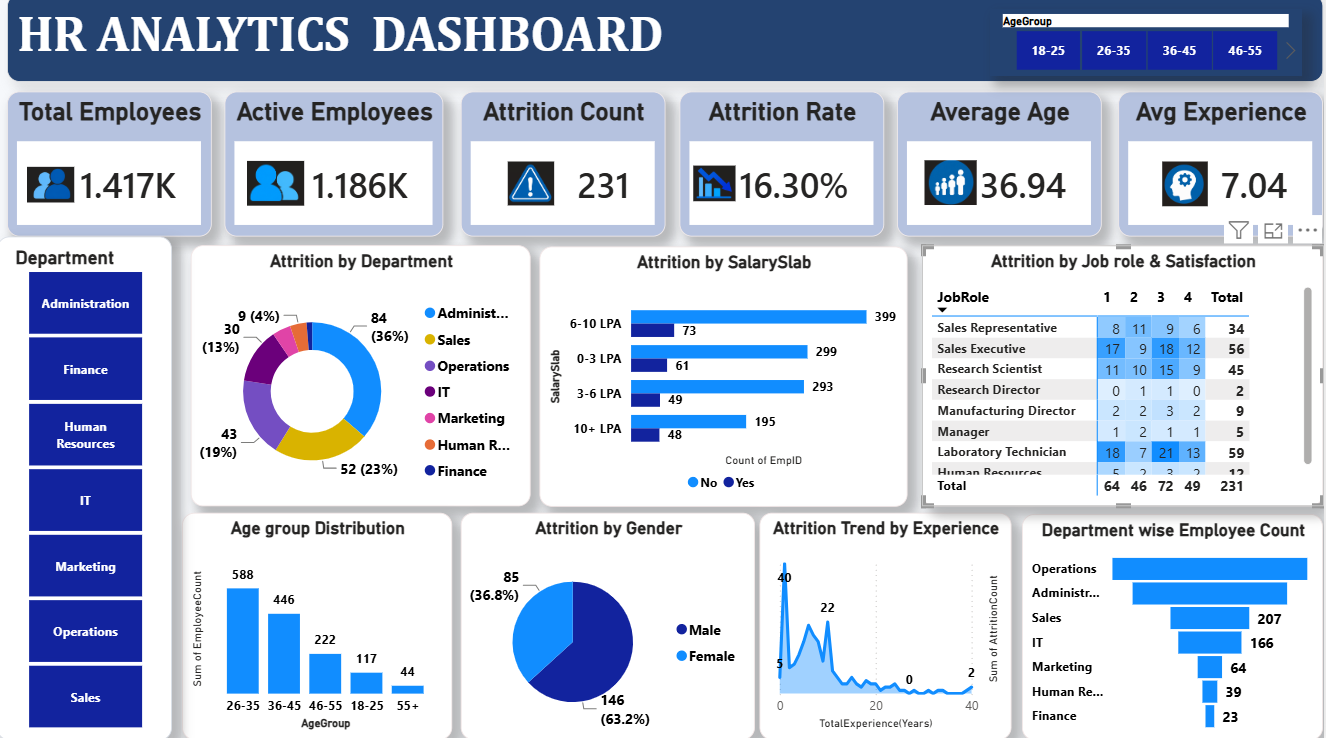

What the dashboard file says about the page in this screenshot:
{"tool":"powerbi","page":{"name":"Page 1","canvas":[1280,720],"ordinal":0},"visuals":[{"type":"textbox","box":[9.6,0,1270.7,85.1],"z":0},{"type":"cardVisual","title":"Total Employees","fields":{"Data":["CountNonNull(HR_Analytics-4.EmpID)"]},"box":[9.6,94.7,197.6,140],"z":1000},{"type":"cardVisual","title":"Active Employees","fields":{"Data":["CountNonNull(HR_Analytics-4.EmployeeCount)"]},"box":[219.6,94.7,211.3,140],"z":2000},{"type":"cardVisual","title":"Attrition Count","fields":{"Data":["Sum(HR_Analytics-4.AttritionCount)"]},"box":[447.3,94.7,197.6,140],"z":3000},{"type":"cardVisual","title":"Attrition Rate","fields":{"Data":["HR_Analytics-4.Attrition Rate %"]},"box":[658.7,94.7,197.6,140],"z":4000},{"type":"cardVisual","title":"Average Age","fields":{"Data":["Avg(HR_Analytics-4.Age)"]},"box":[868.6,94.7,197.6,140],"z":5000},{"type":"cardVisual","title":"Avg Experience","fields":{"Data":["Avg(HR_Analytics-4.YearsatCompany)"]},"box":[1082.7,94.7,197.6,140],"z":6000},{"type":"donutChart","title":"Attrition by Department","fields":{"Category":["HR_Analytics-4.Department"],"Y":["Sum(HR_Analytics-4.AttritionCount)"]},"box":[187,242.5,328.2,252.1],"z":7000},{"type":"clusteredBarChart","title":"Attrition by SalarySlab","fields":{"Category":["HR_Analytics-4.SalarySlab"],"Y":["CountNonNull(HR_Analytics-4.EmpID)"],"Series":["HR_Analytics-4.Attrition"]},"box":[523.6,243.7,355,251],"z":8000},{"type":"pivotTable","title":"Attrition by Job role & Satisfaction","fields":{"Rows":["HR_Analytics-4.JobRole"],"Values":["Sum(HR_Analytics-4.AttritionCount)"],"Columns":["HR_Analytics-4.JobSatisfaction"]},"box":[892.8,242.5,387.3,252.1],"z":9000},{"type":"columnChart","title":"Age group Distribution","fields":{"Category":["HR_Analytics-4.AgeGroup"],"Y":["Sum(HR_Analytics-4.EmployeeCount)"]},"box":[178.6,500.7,260.6,219.6],"z":10000},{"type":"pieChart","title":"Attrition by Gender","fields":{"Category":["HR_Analytics-4.Gender"],"Y":["Sum(HR_Analytics-4.AttritionCount)"]},"box":[447.3,500.9,284,219.6],"z":11000},{"type":"areaChart","title":"Attrition Trend by Experience","fields":{"Category":["HR_Analytics-4.TotalExperience(Years)"],"Y2":["Sum(HR_Analytics-4.AttritionCount)"]},"box":[735.9,500.7,242.9,219.6],"z":12000},{"type":"funnel","title":"Department wise Employee Count","fields":{"Category":["HR_Analytics-4.Department"],"Y":["CountNonNull(HR_Analytics-4.EmpID)"]},"box":[989.3,501.9,290.8,218.4],"z":13000},{"type":"slicer","fields":{"Values":["HR_Analytics-4.Department"]},"box":[0,234,168.9,486.2],"z":14000},{"type":"slicer","fields":{"Values":["HR_Analytics-4.AgeGroup"]},"box":[957.9,14.5,301.6,65.1],"z":15000},{"type":"image","box":[29,153.2,45.8,61.5],"z":16000},{"type":"image","box":[241.3,131.5,55.5,102.5],"z":17000},{"type":"image","box":[477.8,161.7,74.8,42.2],"z":18000},{"type":"image","box":[672,152,41,61.5],"z":19000},{"type":"image","box":[892.8,160.5,55.5,43.4],"z":20000},{"type":"image","box":[1087,161.7,119.4,43.4],"z":21000}]}

Visuals, with their boxes in screenshot pixels (x1, y1, x2, y2), scaled from the page's 1280x720 canvas onto the 1326x738 screenshot:
textbox: BBox(10, 0, 1325, 87)
"Total Employees" cardVisual: BBox(10, 97, 215, 241)
"Active Employees" cardVisual: BBox(227, 97, 446, 241)
"Attrition Count" cardVisual: BBox(463, 97, 668, 241)
"Attrition Rate" cardVisual: BBox(682, 97, 887, 241)
"Average Age" cardVisual: BBox(900, 97, 1105, 241)
"Avg Experience" cardVisual: BBox(1122, 97, 1325, 241)
"Attrition by Department" donutChart: BBox(194, 249, 534, 507)
"Attrition by SalarySlab" clusteredBarChart: BBox(542, 250, 910, 507)
"Attrition by Job role & Satisfaction" pivotTable: BBox(925, 249, 1325, 507)
"Age group Distribution" columnChart: BBox(185, 513, 455, 737)
"Attrition by Gender" pieChart: BBox(463, 513, 758, 737)
"Attrition Trend by Experience" areaChart: BBox(762, 513, 1014, 737)
"Department wise Employee Count" funnel: BBox(1025, 514, 1325, 737)
slicer - HR_Analytics-4.Department: BBox(0, 240, 175, 737)
slicer - HR_Analytics-4.AgeGroup: BBox(992, 15, 1305, 82)
image: BBox(30, 157, 77, 220)
image: BBox(250, 135, 307, 240)
image: BBox(495, 166, 572, 209)
image: BBox(696, 156, 739, 219)
image: BBox(925, 165, 982, 209)
image: BBox(1126, 166, 1250, 210)
